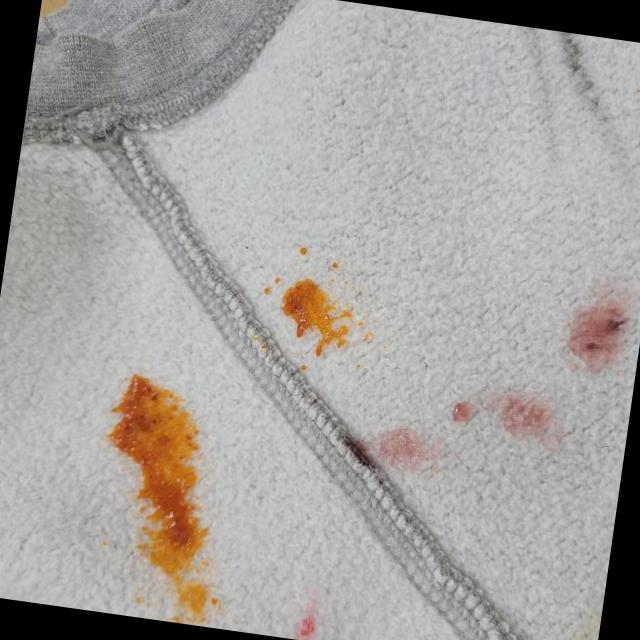Stain: (74, 367, 249, 628), (250, 228, 382, 385), (508, 25, 640, 169), (558, 288, 640, 382), (336, 416, 450, 477), (488, 387, 570, 449), (292, 584, 327, 640), (446, 393, 479, 428)
seam: (12, 106, 624, 640), (21, 0, 309, 186)
